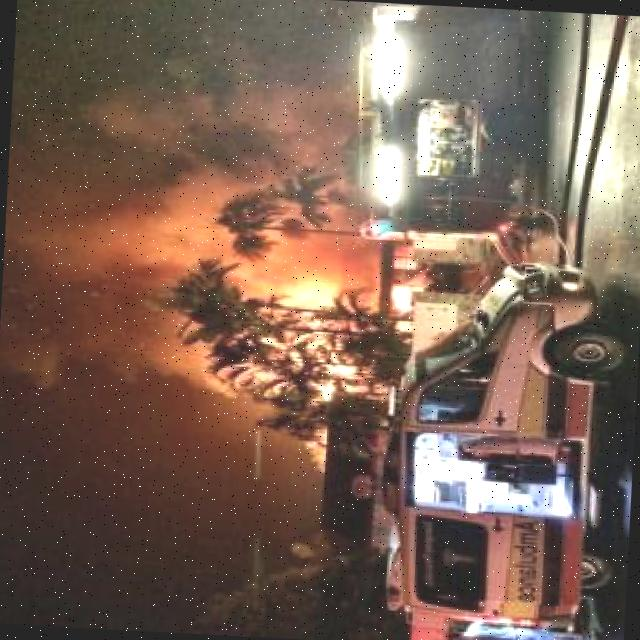fire: (0, 69, 253, 401), (271, 346, 365, 402), (242, 263, 339, 305)
